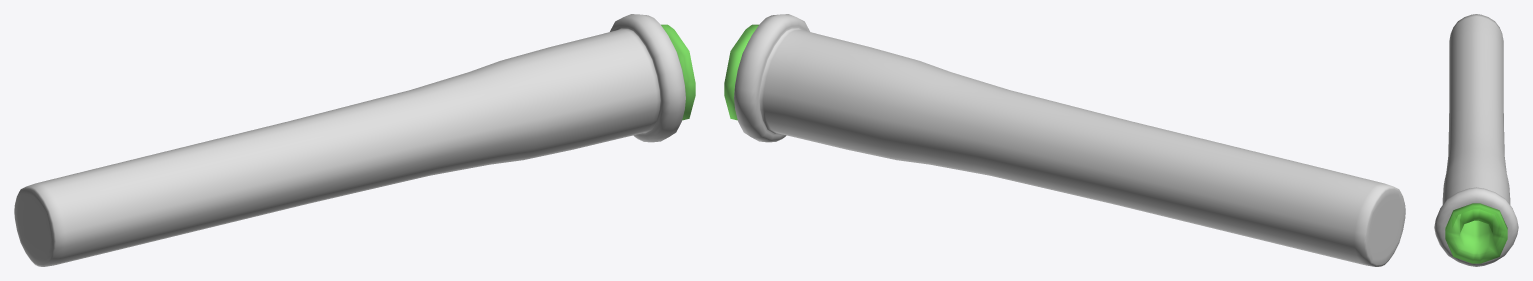
Rendered from SyringeCap.fbx.
3 views of the same model, side by side, from view 1: azimuth 30°, elevation 25°; view 2: azimuth 150°, elevation 25°; view 3: azimuth 270°, elevation 25° (orthographic). The views are drawn at different scales.
Visible parts, largest first — view 1: SyringeCap, SyringeNeedle; view 2: SyringeCap, SyringeNeedle; view 3: SyringeCap, SyringeNeedle.
Boxes of the visible parts, x1,y1,x2,y2 form: SyringeCap: (14,14,685,266); SyringeNeedle: (661,24,695,120); SyringeCap: (734,14,1405,266); SyringeNeedle: (724,24,758,120); SyringeCap: (1434,14,1518,266); SyringeNeedle: (1445,203,1507,263).
Bounding box in the file's own units: 0.0466 × 0.00846 × 0.00842.
